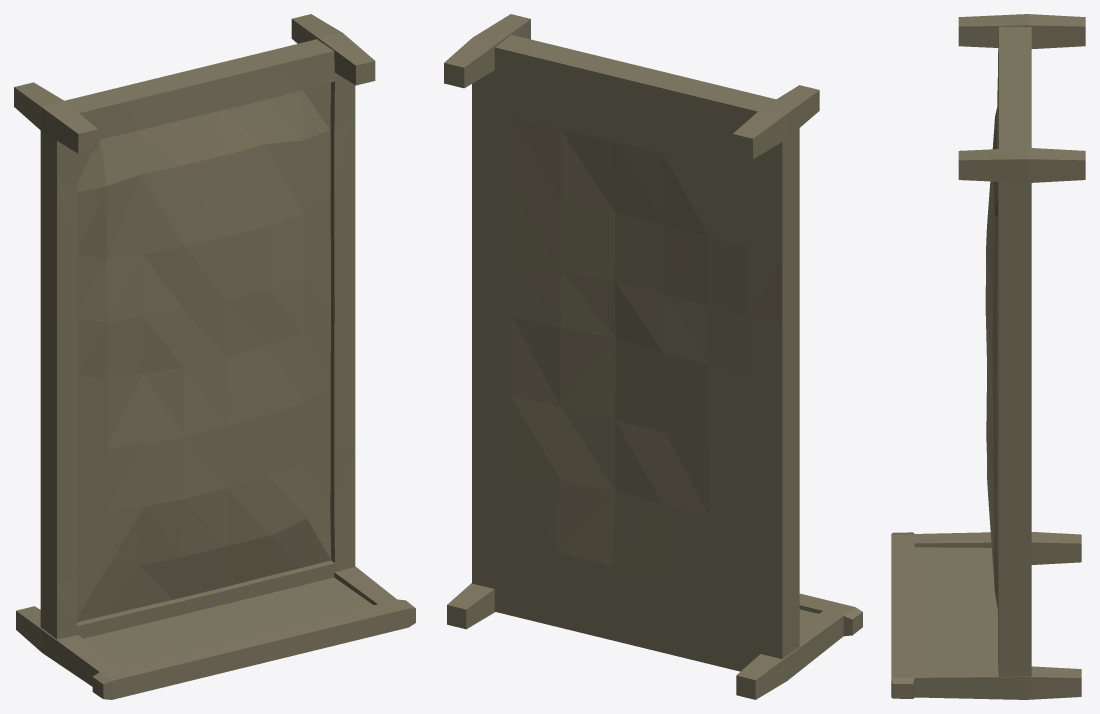
Rendered from bed.glb.
The picture shows the model from 3 angles, left to right: view 1: azimuth 30°, elevation 25°; view 2: azimuth 150°, elevation 25°; view 3: azimuth 270°, elevation 25°; orthographic projection. The views are drawn at different scales.
Bounding box in the file's own units: 8.44 × 14.06 × 4.58.
